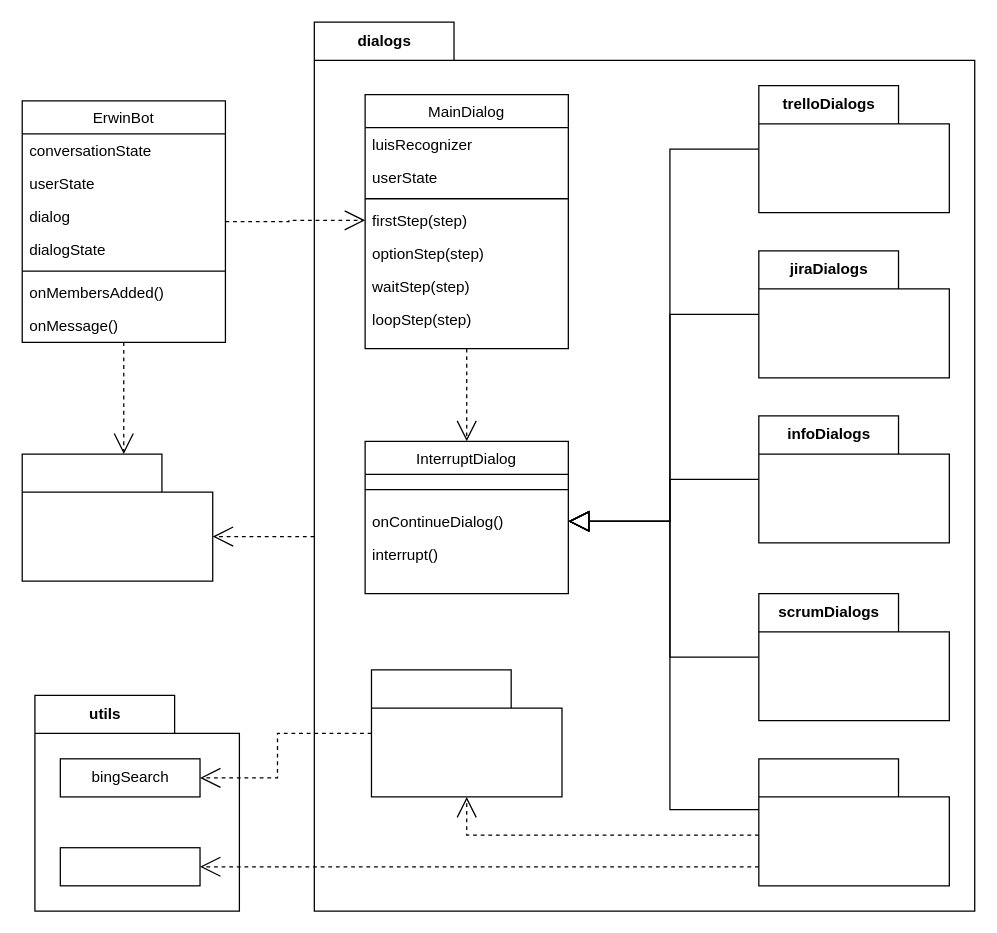
Some shapes in this 997 by 933 pixel diagram are drawn without their labels. Each missing label, with the centre of its shape:
"bingSearchDialogs" belongs at point 466,733.
"botResources" belongs at point 117,517.
"sendEmail" belongs at point 129,866.
"ticketDialogs" belongs at point 853,822.
